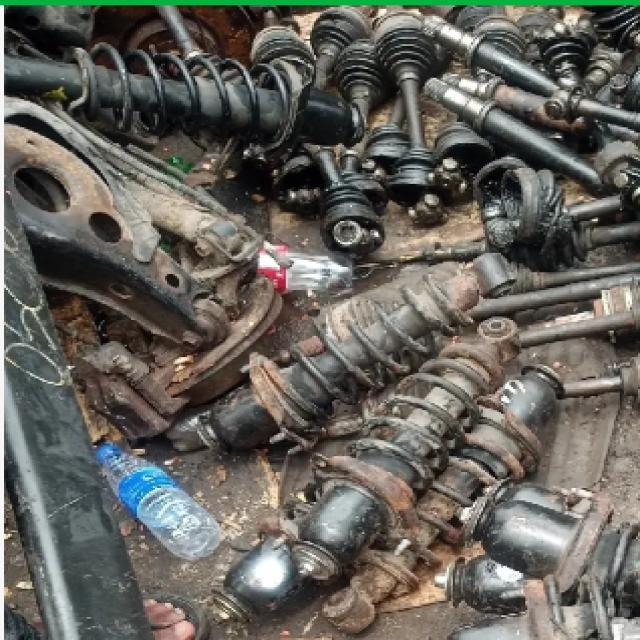shock absorber: (166, 253, 516, 462), (322, 363, 567, 633), (283, 316, 523, 582), (4, 42, 365, 152)
